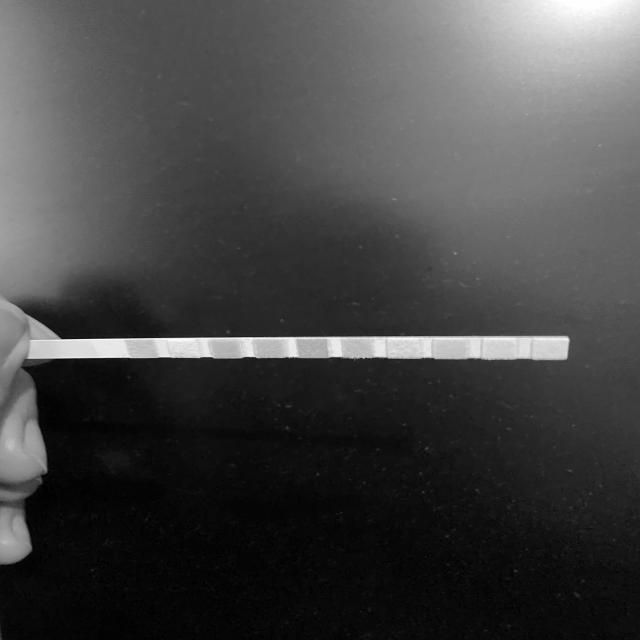Bilirubin: (172, 338, 195, 358)
Blood: (302, 338, 324, 358)
Glucose: (133, 340, 152, 358)
Ketone: (215, 339, 237, 358)
Leukocytes: (534, 340, 566, 360)
Nitrite: (484, 339, 516, 359)
Protein: (389, 338, 418, 358)
SpGravity: (258, 338, 282, 358)
Urobilinogen: (435, 338, 465, 358)
background: (0, 0, 640, 640)
pH: (344, 338, 371, 358)
strip: (36, 336, 569, 359)
